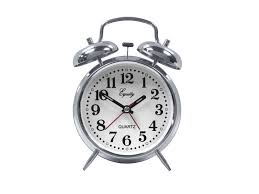alarm_clock: (70, 16, 181, 170)
